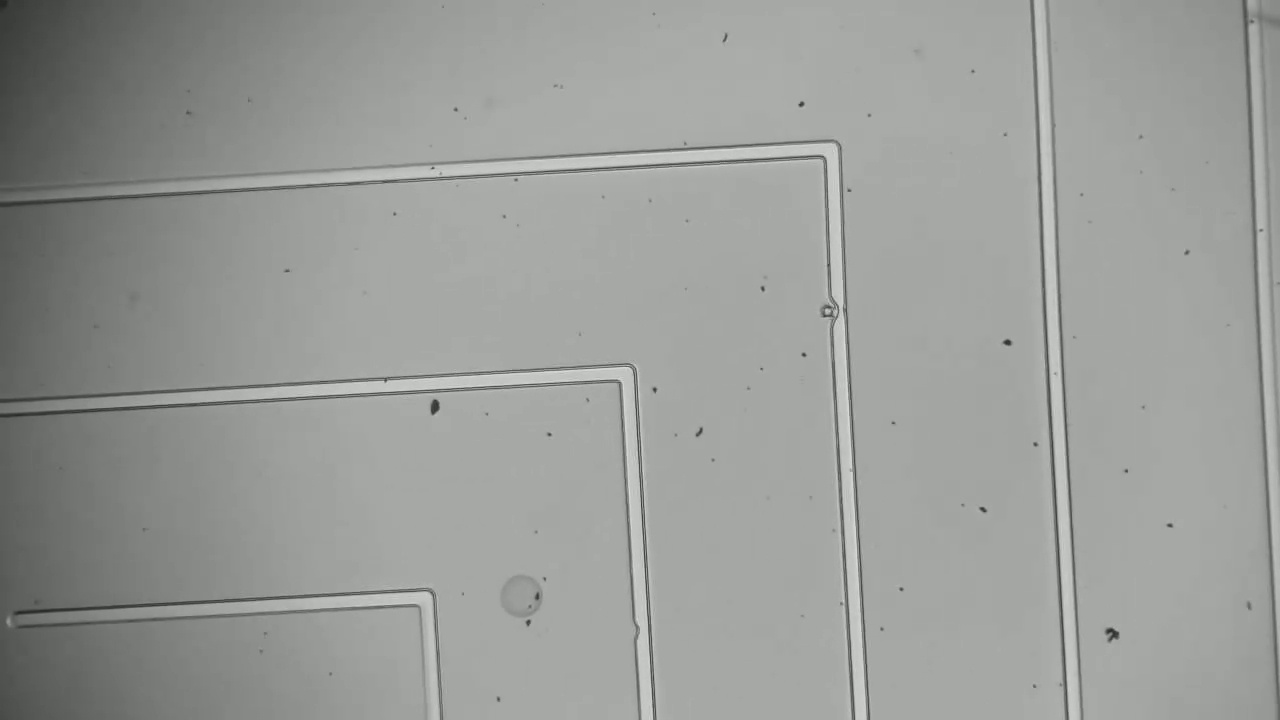edge_bite: (816, 285, 860, 336), (623, 611, 658, 653)
